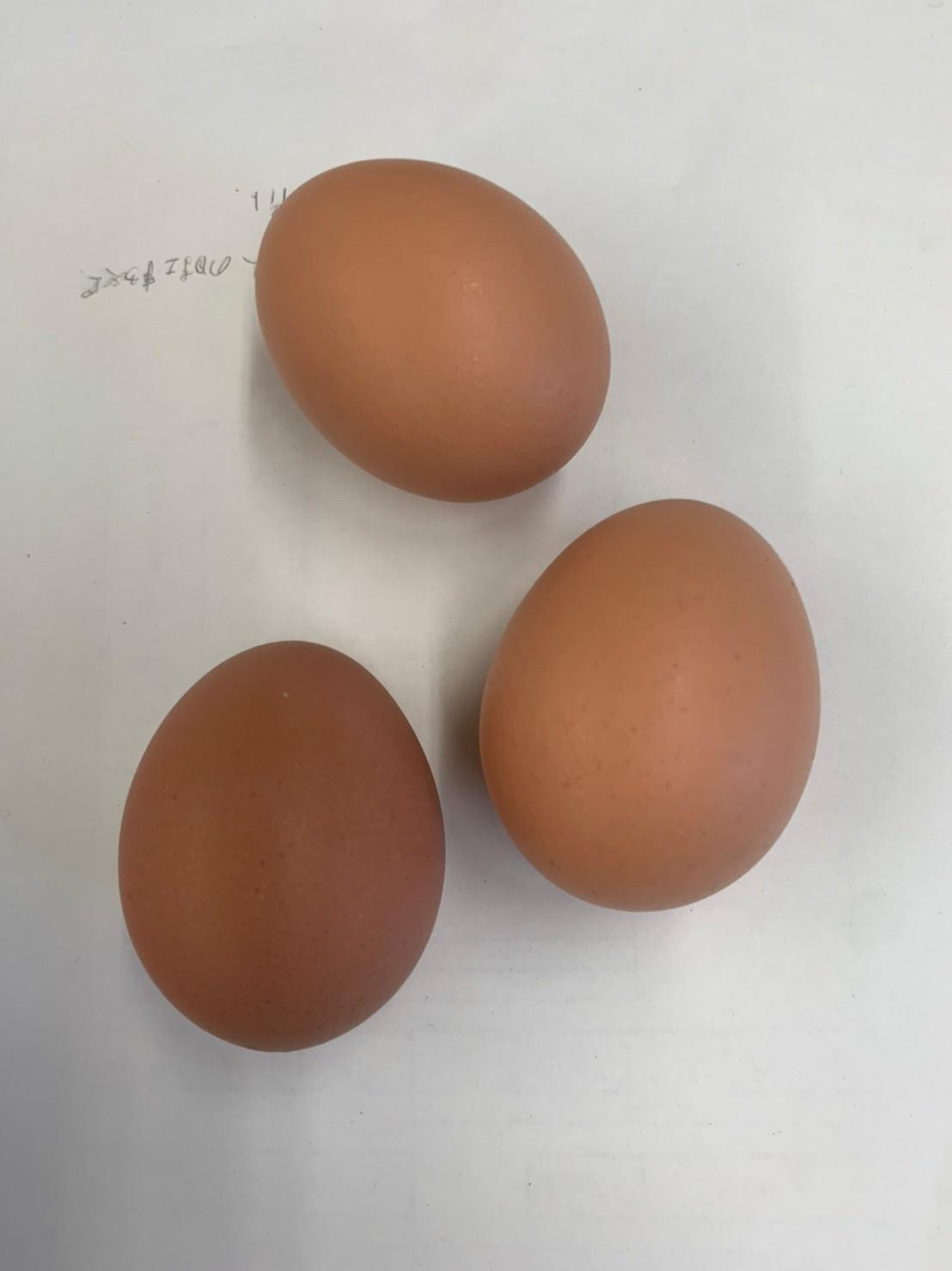egg: (471, 490, 826, 923), (110, 631, 449, 1056), (247, 157, 613, 507)
